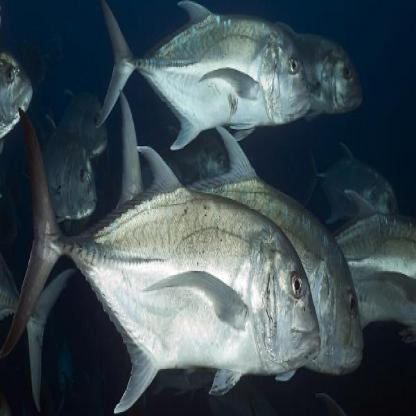Carangidae -Jacks-: (6, 96, 323, 408), (89, 7, 310, 156)
